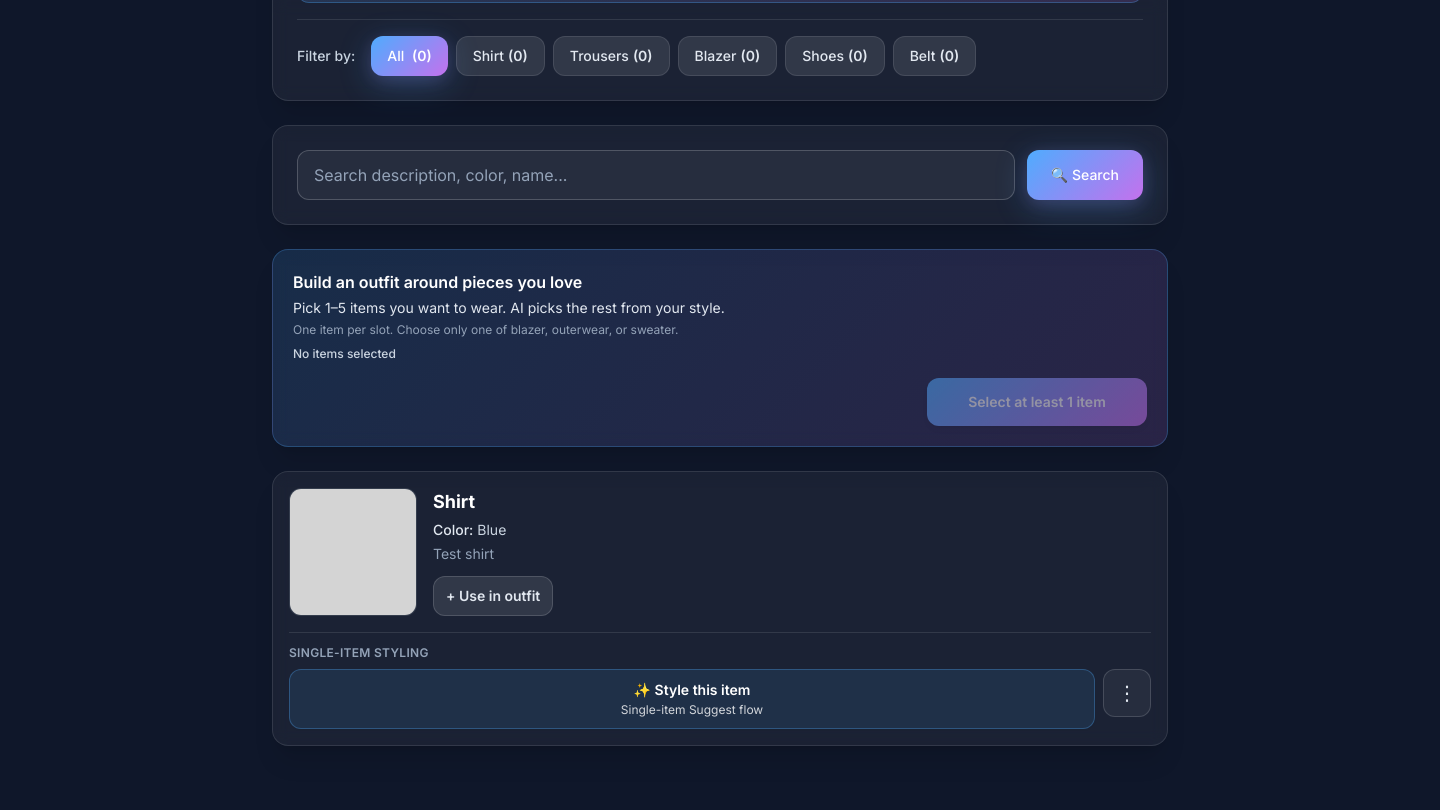
Wardrobe page › opens history modal with empty state when no linked history
(page scrolled)
Click the button "⋮" at {"x": 1127, "y": 693}, box [1103, 669, 1151, 717]
(page scrolled)
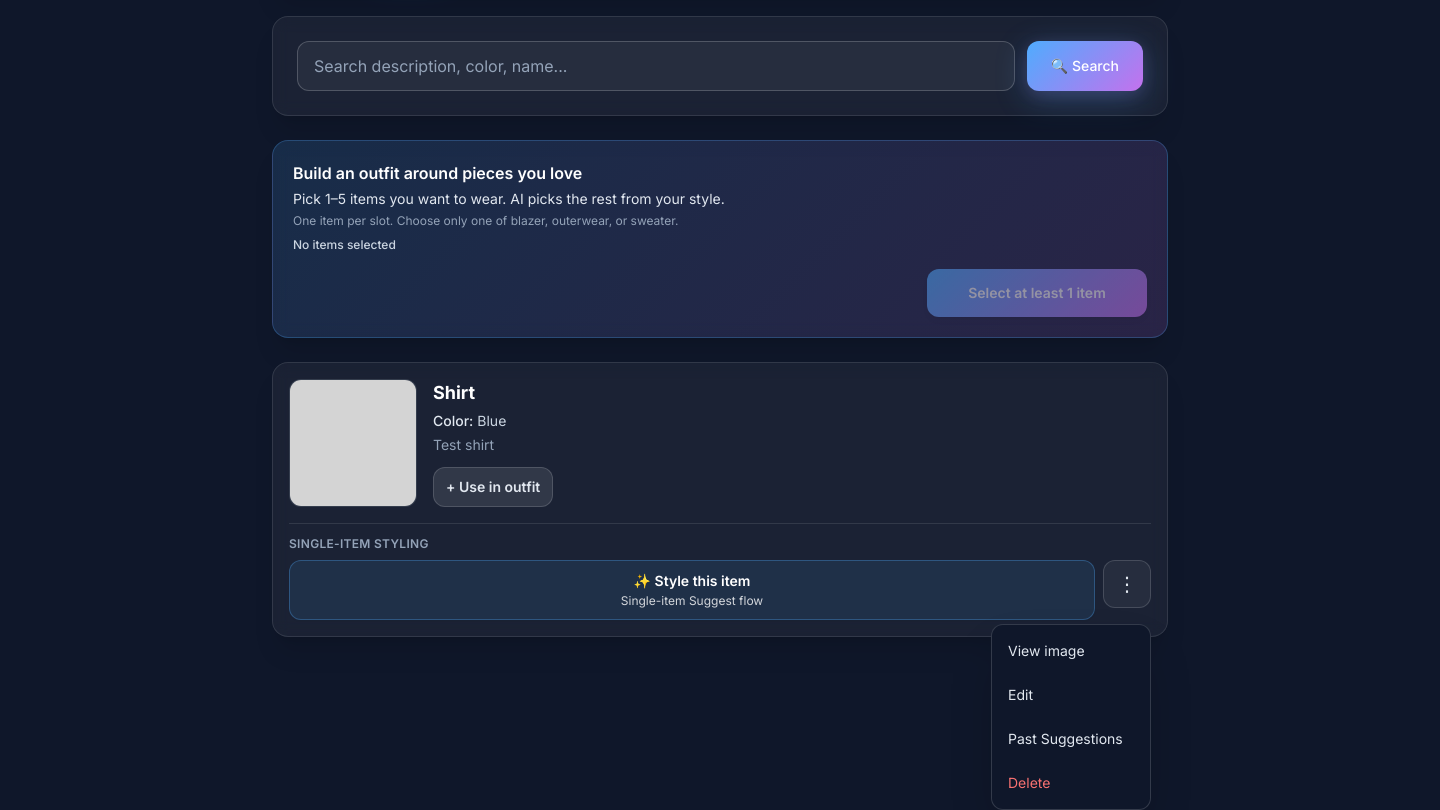
Click the menu item with test id "wardrobe-menu-past-suggestions-1" at {"x": 1071, "y": 739}, box [992, 717, 1150, 761]
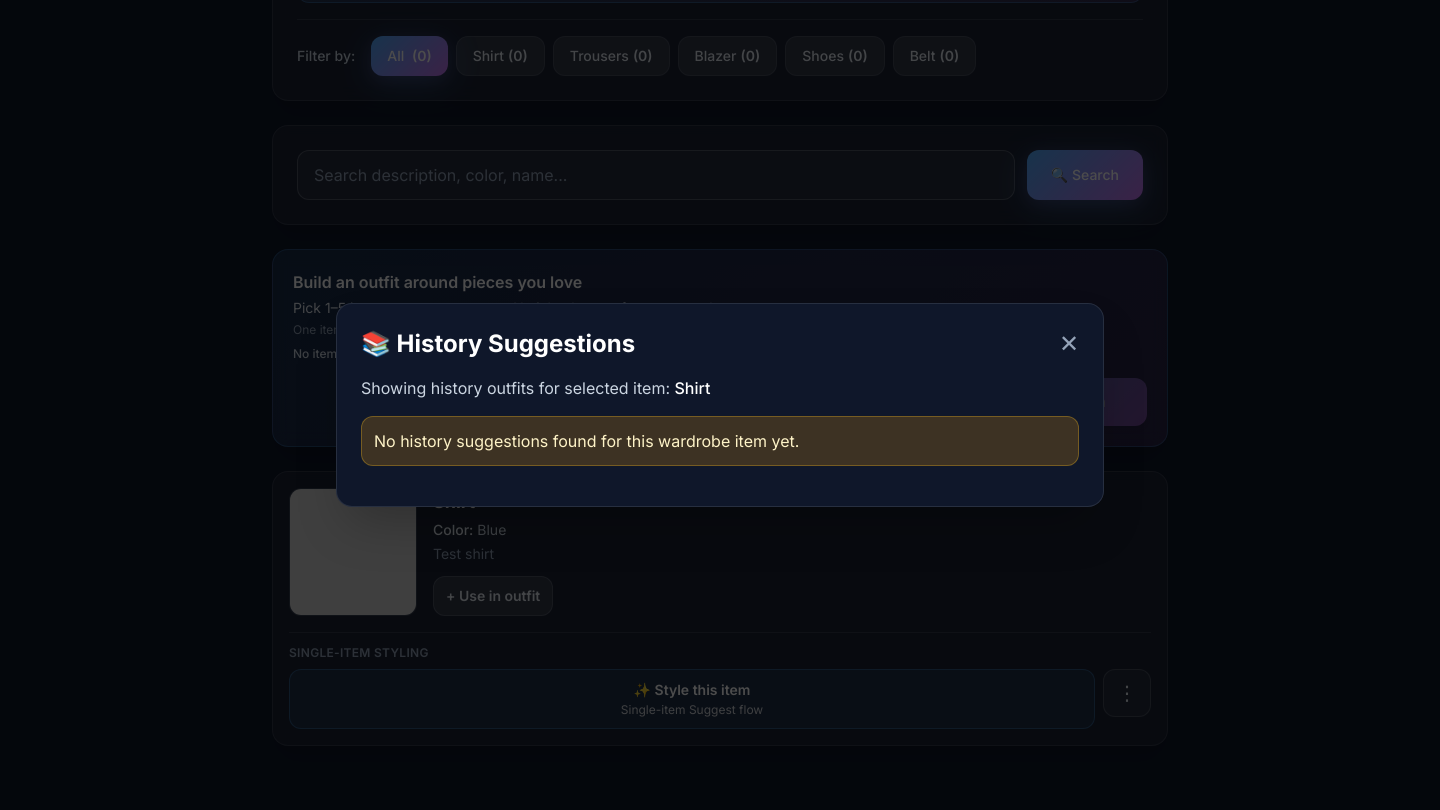
Now the heading "📚 History Suggestions" is shown, box [361, 328, 635, 360]
Now the text "No history suggestions found for this wardrobe item yet." is shown, box [361, 416, 1079, 466]
